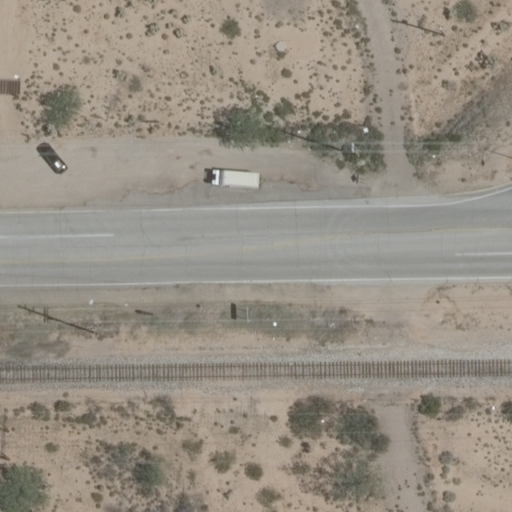DT: (86, 322, 104, 338)
